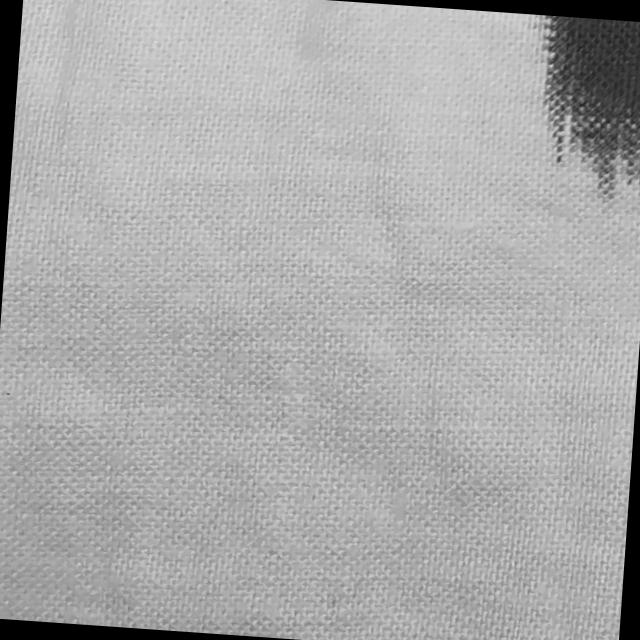Stain: (519, 14, 640, 211)
